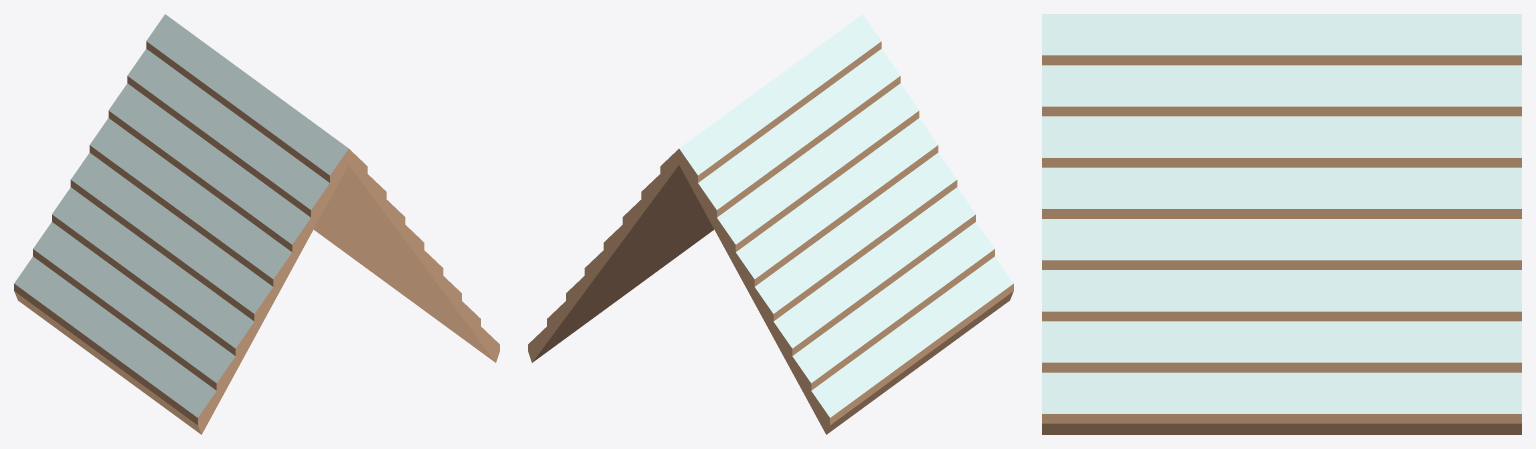
Rendered from cabinRoofCenter.glb.
The picture shows the model from 3 angles, left to right: view 1: azimuth 30°, elevation 25°; view 2: azimuth 150°, elevation 25°; view 3: azimuth 270°, elevation 25°; orthographic projection. The views are drawn at different scales.
Visible parts, largest first — view 1: cabinRoofCenter; view 2: cabinRoofCenter; view 3: cabinRoofCenter.
Part boxes in pixels (<box>): cabinRoofCenter: <box>14,14,499,434</box>; cabinRoofCenter: <box>528,14,1013,434</box>; cabinRoofCenter: <box>1042,14,1521,434</box>.
Size of the model in its own units: 1.21 by 0.9559 by 1.27.
